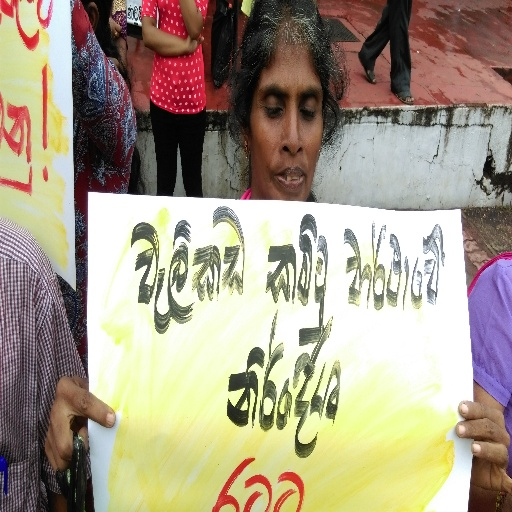hand: (43, 371, 115, 476), (454, 398, 511, 497), (186, 33, 205, 54), (110, 16, 123, 42)
